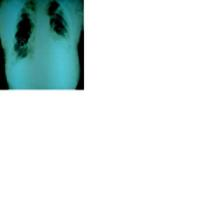tuberculosis: (0, 1, 84, 89)
